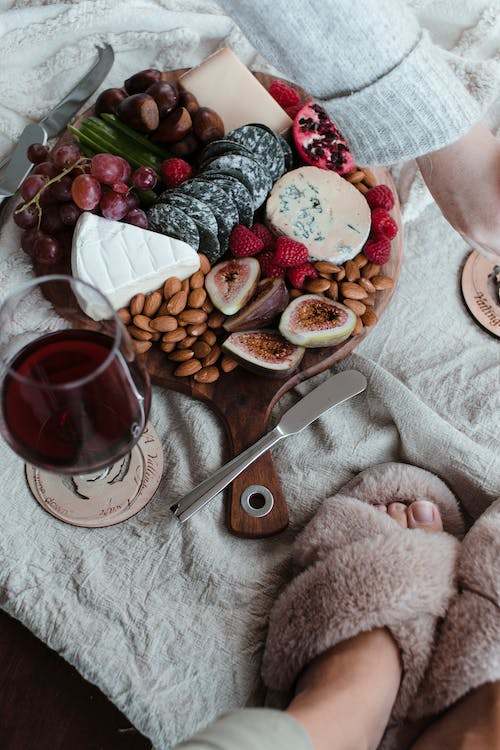alcohol: (0, 275, 154, 526)
knife: (166, 362, 371, 527)
